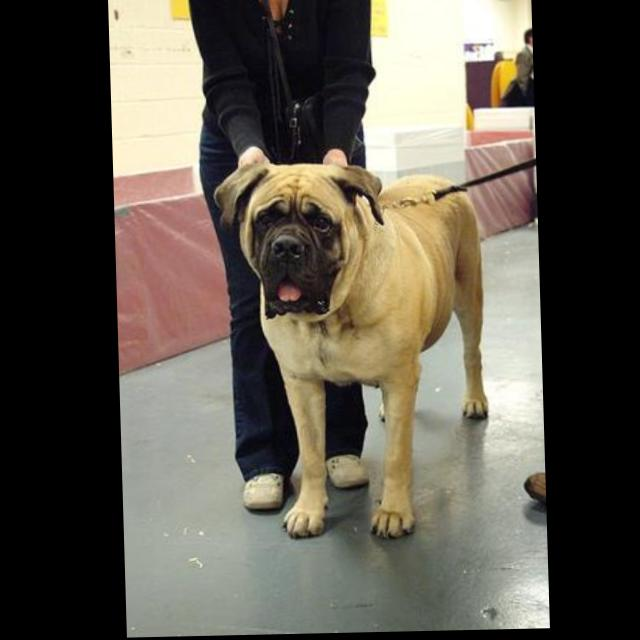bullmastiff: (213, 158, 493, 544)
person: (186, 1, 388, 514)
